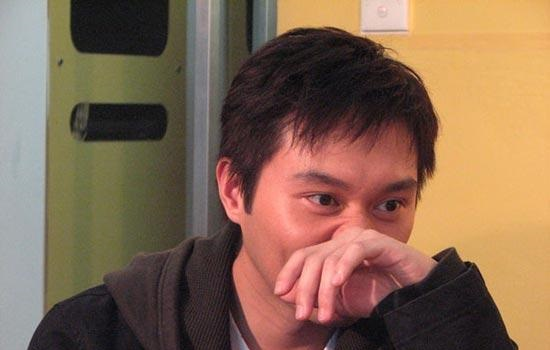face: (254, 127, 418, 317)
